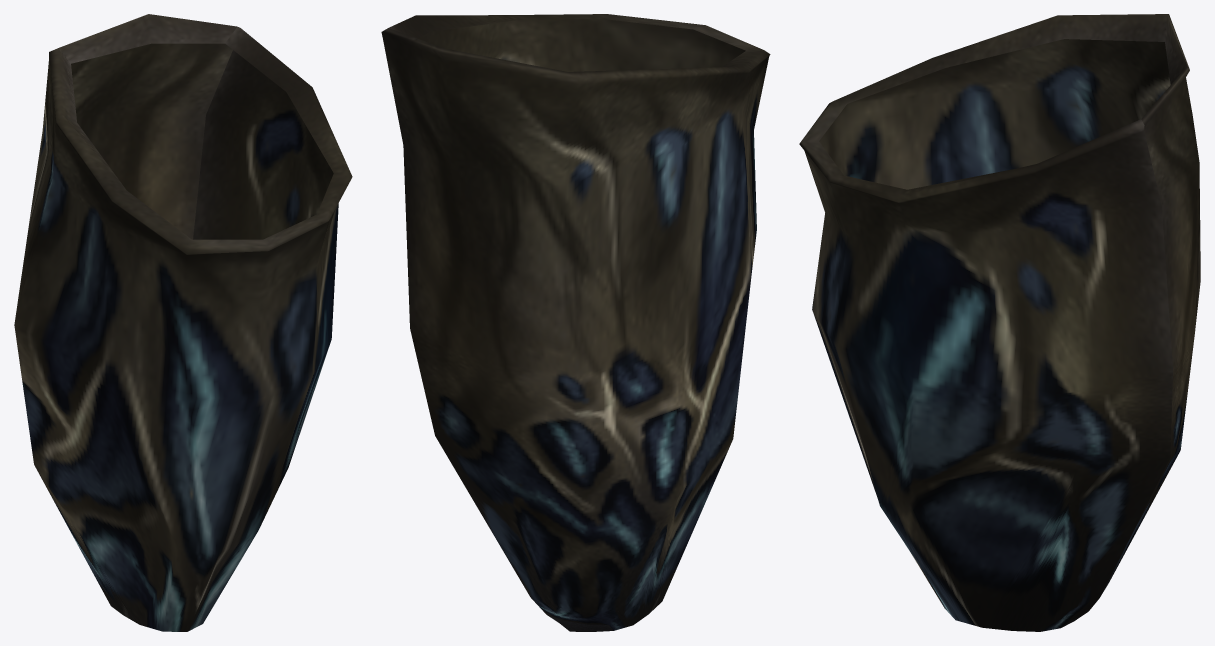
File: legArmorCiladeaRGT.fbx
3 views of the same model, side by side, from view 1: azimuth 30°, elevation 25°; view 2: azimuth 150°, elevation 25°; view 3: azimuth 270°, elevation 25° (orthographic). The views are drawn at different scales.
Visible parts, largest first — view 1: legArmorCiladeaRGT; view 2: legArmorCiladeaRGT; view 3: legArmorCiladeaRGT.
Part boxes in pixels (<box>): legArmorCiladeaRGT: <box>14,14,352,631</box>; legArmorCiladeaRGT: <box>381,14,770,631</box>; legArmorCiladeaRGT: <box>799,14,1200,631</box>.
Bounding box in the file's own units: 0.9845 × 1.87 × 1.17.
